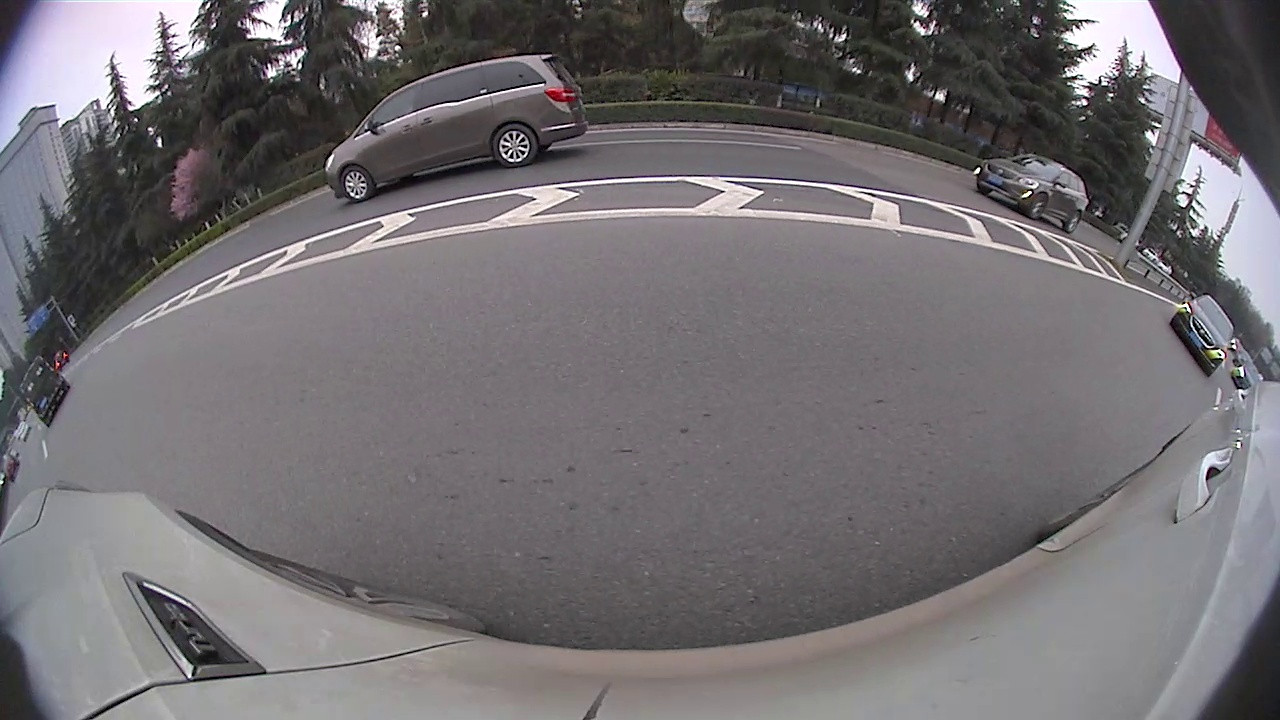car: (976, 144, 1259, 355), (316, 144, 514, 261), (1187, 329, 1276, 440), (602, 142, 683, 205), (699, 154, 777, 198), (834, 170, 907, 209), (545, 158, 593, 191), (769, 166, 799, 193), (811, 167, 840, 190), (795, 171, 816, 191)
front: (986, 224, 1017, 257), (500, 183, 513, 215)
rear: (1158, 308, 1200, 355), (430, 201, 457, 242)
